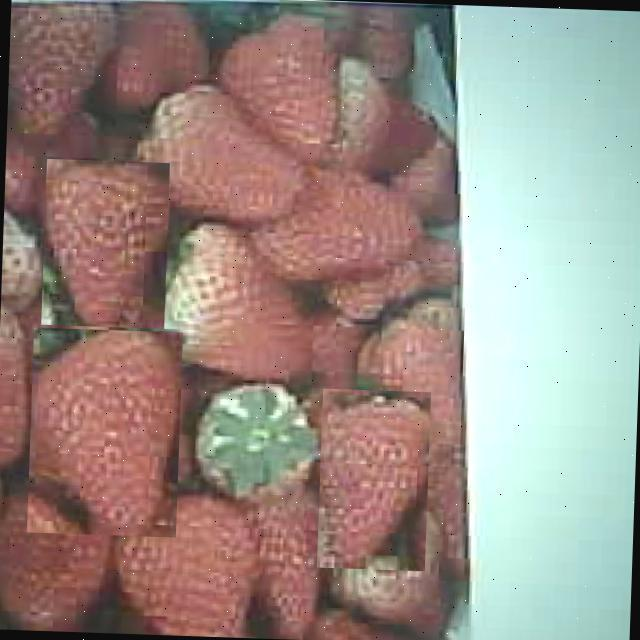ripe: (26, 327, 182, 537), (153, 222, 314, 381), (41, 158, 169, 328), (316, 388, 431, 571), (115, 494, 255, 638)
